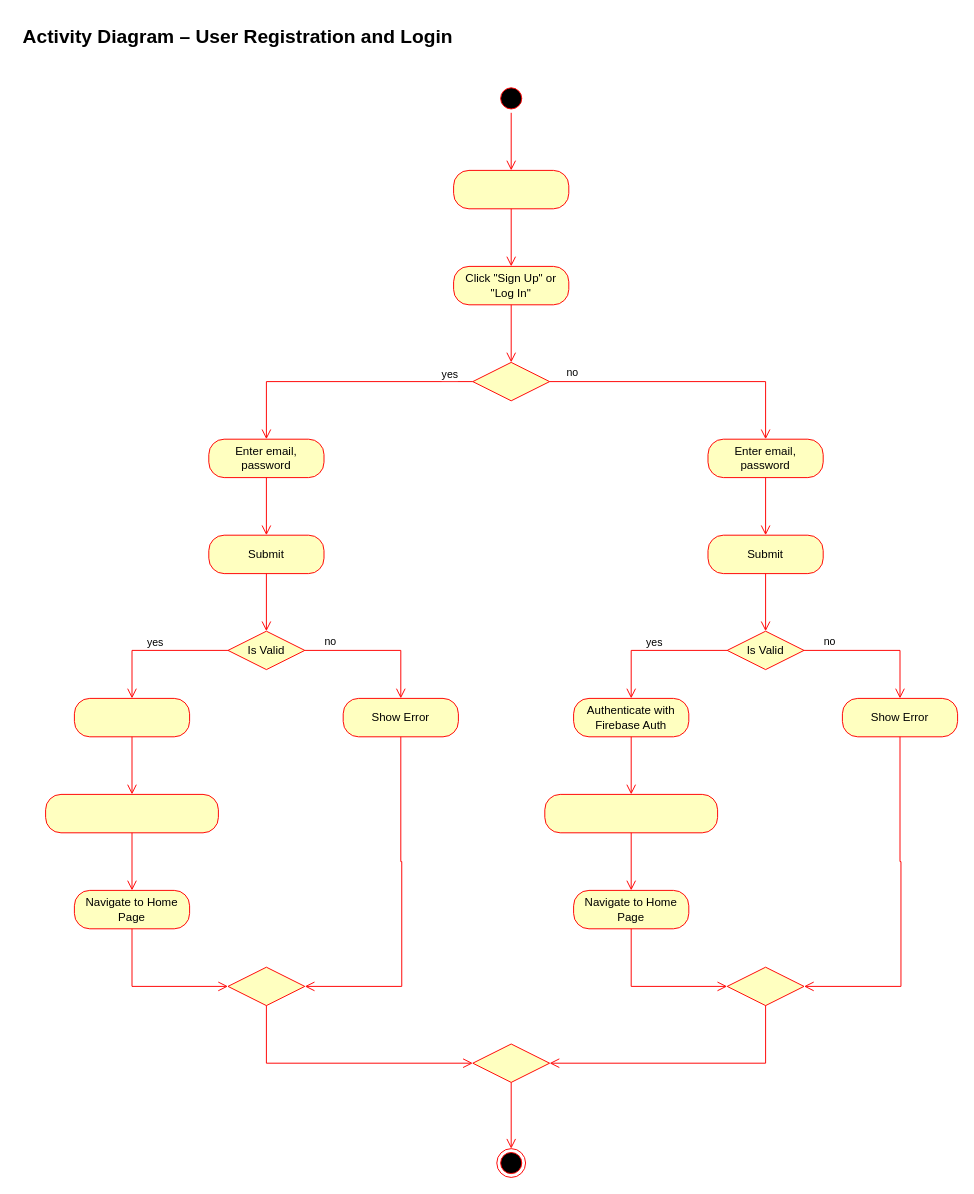
Some shapes in this 974 by 1194 pixel diagram are drawn without their labels. Each missing label, with the box of its shape:
Create account in Firebase Auth: (73, 697, 190, 737)
Create user profile in Firestore with role "MEMBER": (45, 793, 218, 833)
Load user profile from Firestore: (544, 793, 718, 833)
Open App: (453, 169, 569, 209)
Sign Up?: (472, 361, 550, 401)
